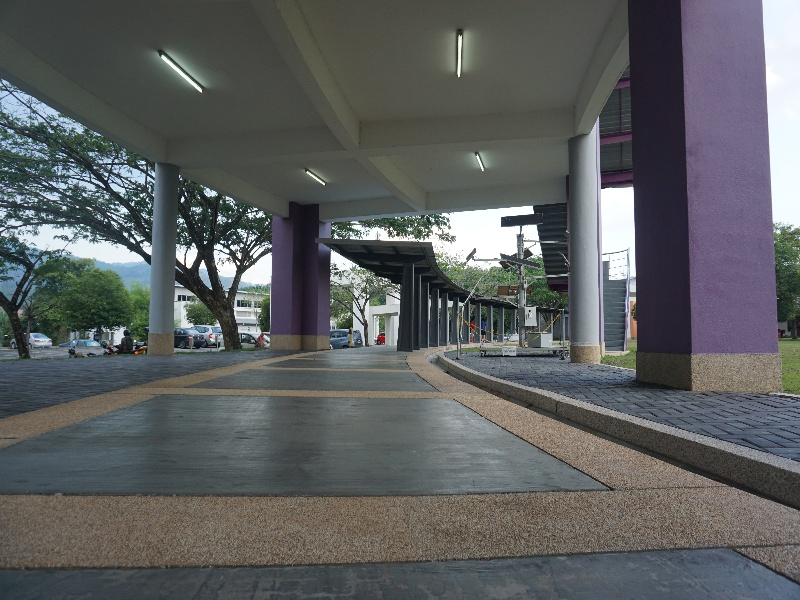Block D Pillar 4: (8, 4, 800, 505)
pillar: (266, 194, 338, 362), (135, 154, 186, 364)
